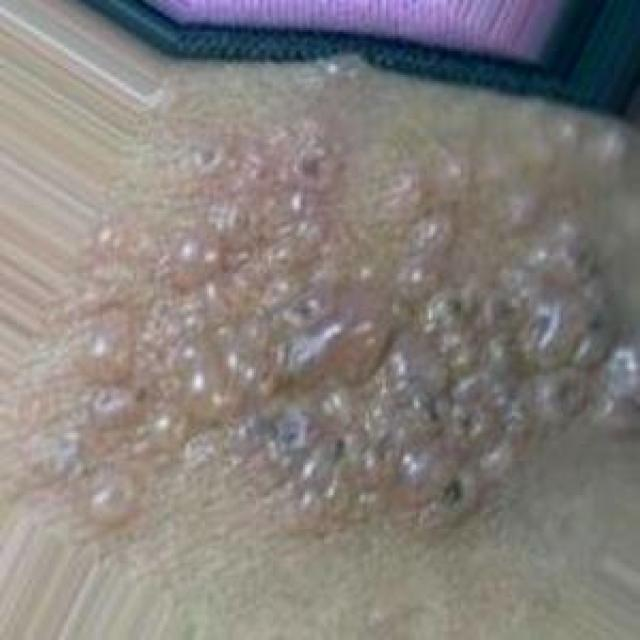Shingles: (84, 133, 636, 528)
